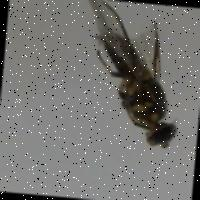Oriental-fruit-fly: (68, 0, 193, 156)
